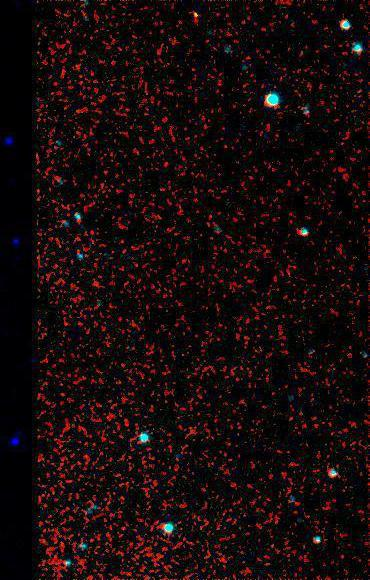star: (181, 1, 211, 31)
